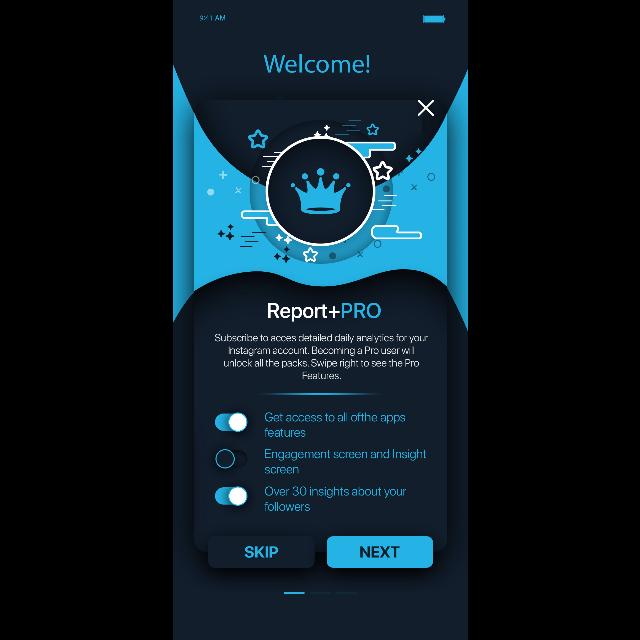icon: (417, 100, 433, 116)
image: (207, 120, 435, 262)
pageindicator: (284, 592, 356, 594)
switch: (215, 412, 248, 432), (215, 486, 248, 506), (215, 449, 247, 469)
text: (215, 334, 428, 380), (264, 450, 426, 474), (264, 486, 406, 512), (264, 412, 404, 438), (268, 302, 380, 322), (263, 54, 369, 74)
textbutton: (326, 536, 432, 568), (208, 536, 314, 568)
uppertaskbar: (199, 14, 445, 24)
